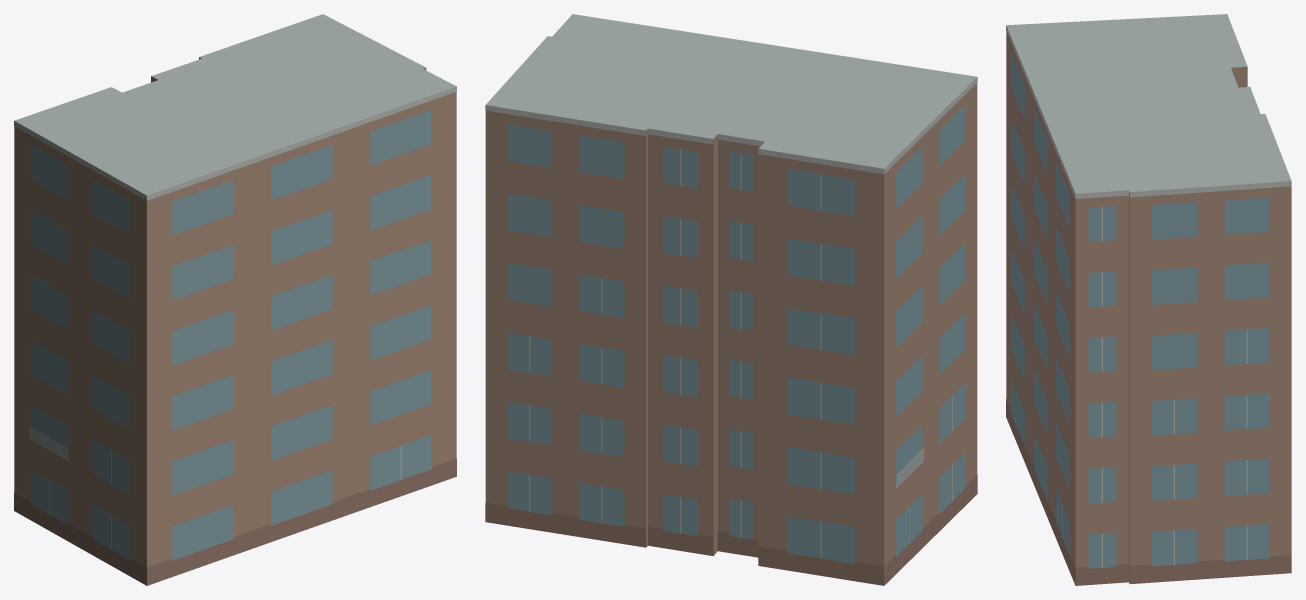
The model's file is survey-upis-32752057.glb.
3 views of the same model, side by side, from view 1: azimuth 30°, elevation 25°; view 2: azimuth 150°, elevation 25°; view 3: azimuth 270°, elevation 25° (orthographic). The views are drawn at different scales.
Parts seen in each view (by area): view 1: survey-upis-32752057.tmp; view 2: survey-upis-32752057.tmp; view 3: survey-upis-32752057.tmp.
Boxes of the visible parts, box(x1,y1,x2,y2) form: survey-upis-32752057.tmp: box(14, 14, 456, 585); survey-upis-32752057.tmp: box(485, 14, 977, 585); survey-upis-32752057.tmp: box(1006, 14, 1291, 585).
Bounding box in the file's own units: 18.02 × 18.3 × 12.09.
